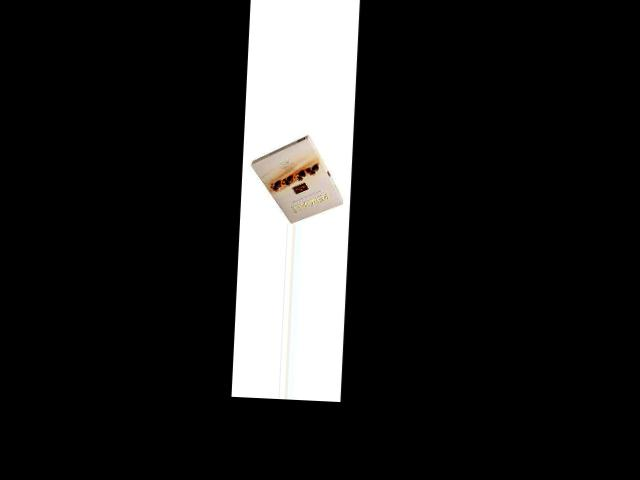chocolate: (241, 130, 346, 224)
